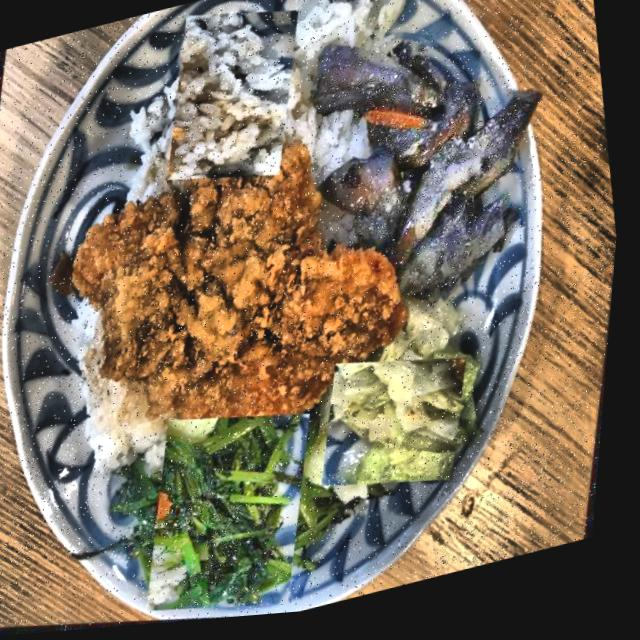Food: (16, 83, 472, 522), (114, 394, 357, 630), (133, 0, 335, 200), (308, 335, 494, 521)
